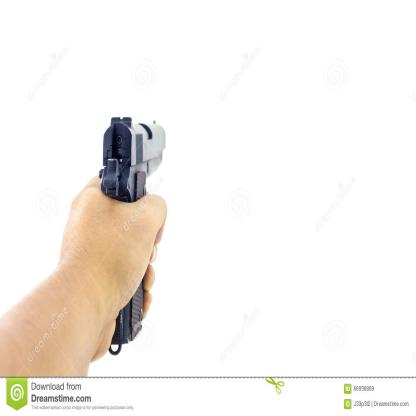handgun: (100, 113, 166, 352)
